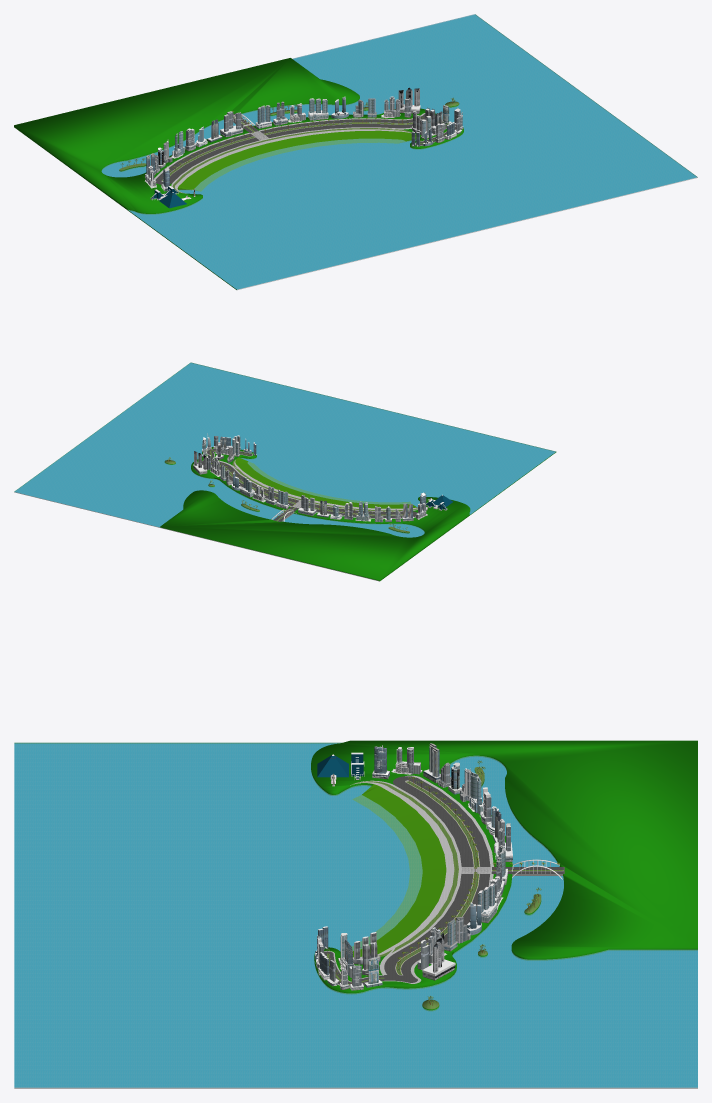
Rendered from realistic_city.glb.
The picture shows the model from 3 angles, top to bottom: view 1: azimuth 30°, elevation 25°; view 2: azimuth 150°, elevation 25°; view 3: azimuth 270°, elevation 25°; orthographic projection. The views are drawn at different scales.
Visible parts, largest first — view 1: Material3 (×11), Material2; view 2: Material3 (×10), Material2; view 3: Material3 (×13), Material2 (×2).
Boxes of the visible parts, bbox=[...] form: Material3 (×11): bbox=[14, 14, 697, 290]; Material2: bbox=[101, 14, 697, 289]; Material3 (×10): bbox=[14, 362, 556, 581]; Material2: bbox=[14, 362, 555, 537]; Material3 (×13): bbox=[14, 740, 697, 1088]; Material2 (×2): bbox=[14, 742, 697, 1087].
Bounding box in the file's own units: 263604 × 9781 × 159271.
Materials: 99 (91 with a texture image).
